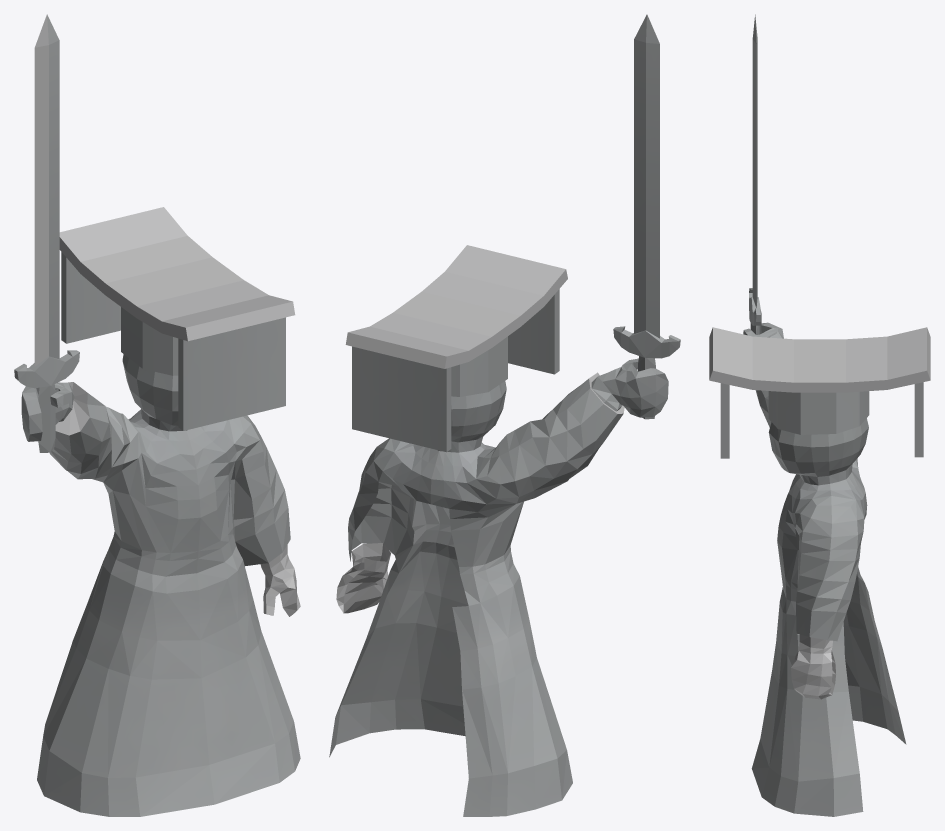
The model's file is statue_stone.fbx.
3 views of the same model, side by side, from view 1: azimuth 30°, elevation 25°; view 2: azimuth 150°, elevation 25°; view 3: azimuth 270°, elevation 25° (orthographic). The views are drawn at different scales.
Parts seen in each view (by area): view 1: statue_stone; view 2: statue_stone; view 3: statue_stone.
Boxes of the visible parts, <box> form: statue_stone: <box>14,14,300,816</box>; statue_stone: <box>329,14,680,816</box>; statue_stone: <box>709,14,930,816</box>.
Size of the model in its own units: 1.72 by 4.22 by 1.23.
Materials: 1 (1 with a texture image).
